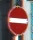No entry: (6, 6, 28, 35)
